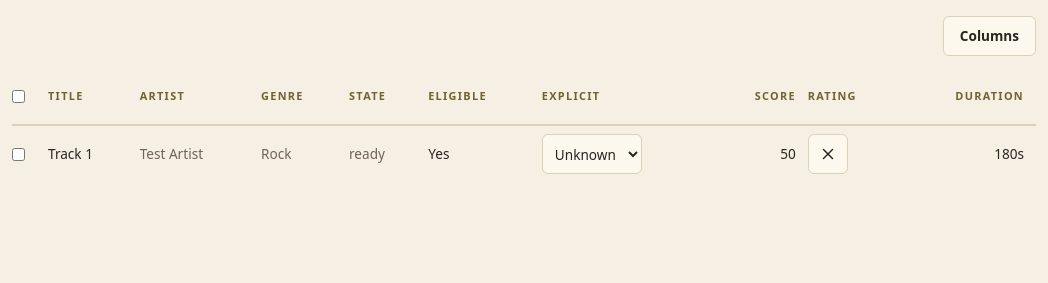
Test: Feature: Year, BPM, and energy in the catalog — on demand › Scenario: the new cells format their signals › renders an em-dash for null bpm/energy/year — never a zero (F49.2)
Click the button "Columns" at (989, 36), box x1=943 y1=16 x2=1036 y2=56
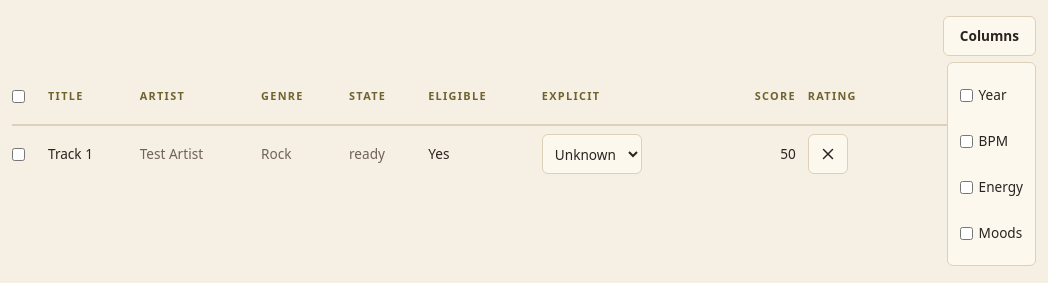
Click the checkbox labelled "Year" at (966, 95), box x1=960 y1=88 x2=973 y2=102
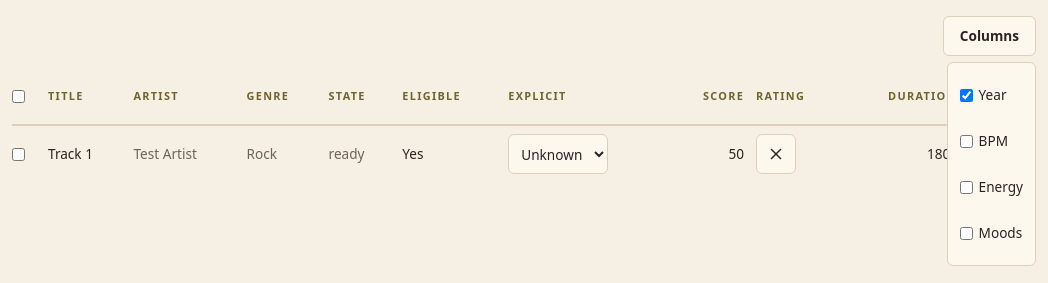
Click the checkbox labelled "BPM" at (966, 141), box x1=960 y1=134 x2=973 y2=148
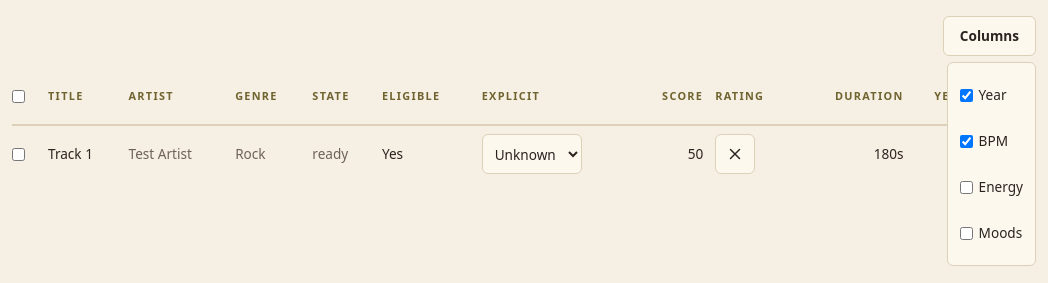
Click the checkbox labelled "Energy" at (966, 187), box x1=960 y1=180 x2=973 y2=194
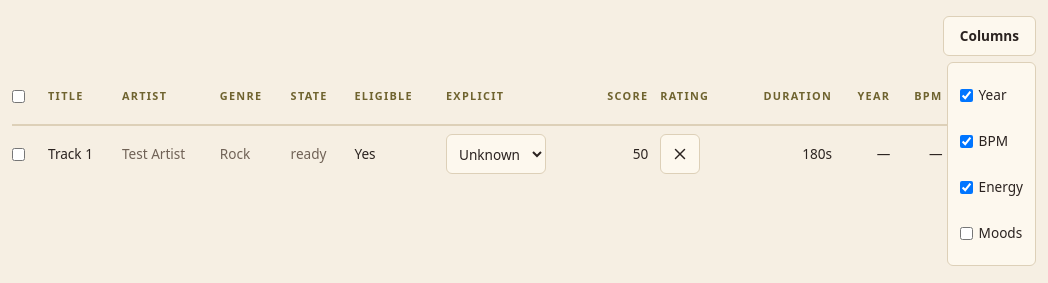
Now the text "—" is shown 3 times, box x1=844 y1=125 x2=902 y2=182; x1=902 y1=125 x2=954 y2=182; x1=954 y1=125 x2=1036 y2=182
